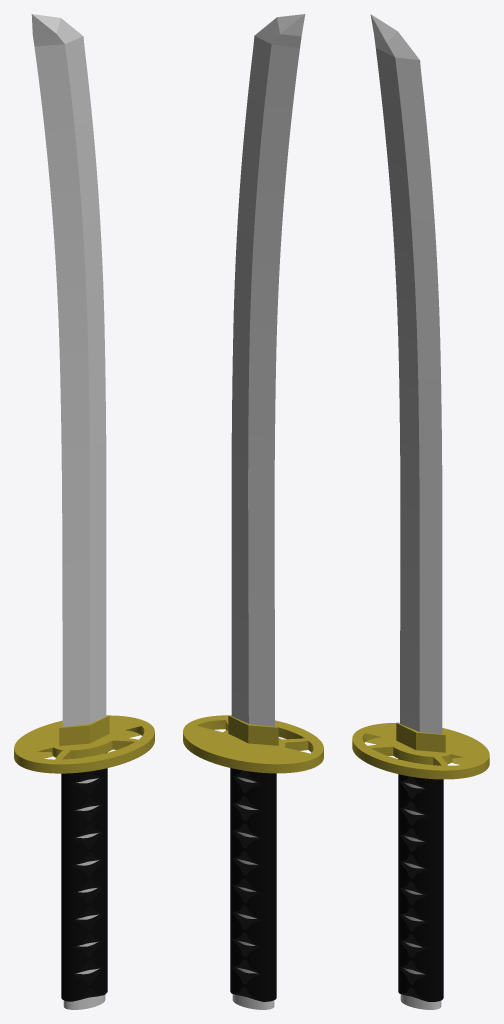
The model's file is Sword2.fbx.
3 views of the same model, side by side, from view 1: azimuth 30°, elevation 25°; view 2: azimuth 150°, elevation 25°; view 3: azimuth 330°, elevation 25° (orthographic). The views are drawn at different scales.
Parts seen in each view (by area): view 1: node_id12, node_id14, node_id26, node_id38, node_id28, node_id34, node_id22, node_id30, node_id32, node_id36, node_id6, node_id4 (+2 smaller); view 2: node_id12, node_id14, node_id38, node_id28, node_id22, node_id30, node_id26, node_id34, node_id32, node_id36, node_id6, node_id4 (+1 smaller); view 3: node_id12, node_id14, node_id30, node_id28, node_id26, node_id38, node_id22, node_id32, node_id34, node_id36, node_id6, node_id4 (+2 smaller).
Part boxes in pixels (left/top/right/bottom): node_id12: left=31, top=14, right=106, bottom=726; node_id14: left=14, top=715, right=154, bottom=773; node_id26: left=61, top=801, right=107, bottom=838; node_id38: left=61, top=964, right=107, bottom=1001; node_id28: left=61, top=856, right=107, bottom=892; node_id34: left=61, top=910, right=107, bottom=947; node_id22: left=61, top=774, right=107, bottom=810; node_id30: left=61, top=829, right=107, bottom=865; node_id32: left=61, top=883, right=107, bottom=919; node_id36: left=61, top=937, right=107, bottom=974; node_id6: left=59, top=715, right=109, bottom=745; node_id4: left=63, top=778, right=105, bottom=1009; node_id12: left=231, top=14, right=305, bottom=726; node_id14: left=183, top=715, right=323, bottom=773; node_id38: left=230, top=964, right=276, bottom=1001; node_id28: left=230, top=856, right=276, bottom=892; node_id22: left=230, top=773, right=276, bottom=810; node_id30: left=230, top=828, right=276, bottom=865; node_id26: left=230, top=801, right=276, bottom=838; node_id34: left=230, top=910, right=276, bottom=947; node_id32: left=230, top=883, right=276, bottom=920; node_id36: left=230, top=937, right=276, bottom=974; node_id6: left=228, top=715, right=278, bottom=745; node_id4: left=232, top=777, right=274, bottom=1009; node_id12: left=370, top=14, right=442, bottom=734; node_id14: left=352, top=722, right=489, bottom=779; node_id30: left=398, top=833, right=443, bottom=869; node_id28: left=398, top=859, right=443, bottom=896; node_id26: left=398, top=806, right=443, bottom=842; node_id38: left=398, top=965, right=443, bottom=1001; node_id22: left=398, top=780, right=443, bottom=815; node_id32: left=398, top=886, right=443, bottom=922; node_id34: left=398, top=912, right=443, bottom=948; node_id36: left=398, top=939, right=443, bottom=975; node_id6: left=396, top=723, right=445, bottom=752; node_id4: left=400, top=782, right=441, bottom=1009.
Size of the model in its own units: 0.0703 by 0.512 by 0.0469.
